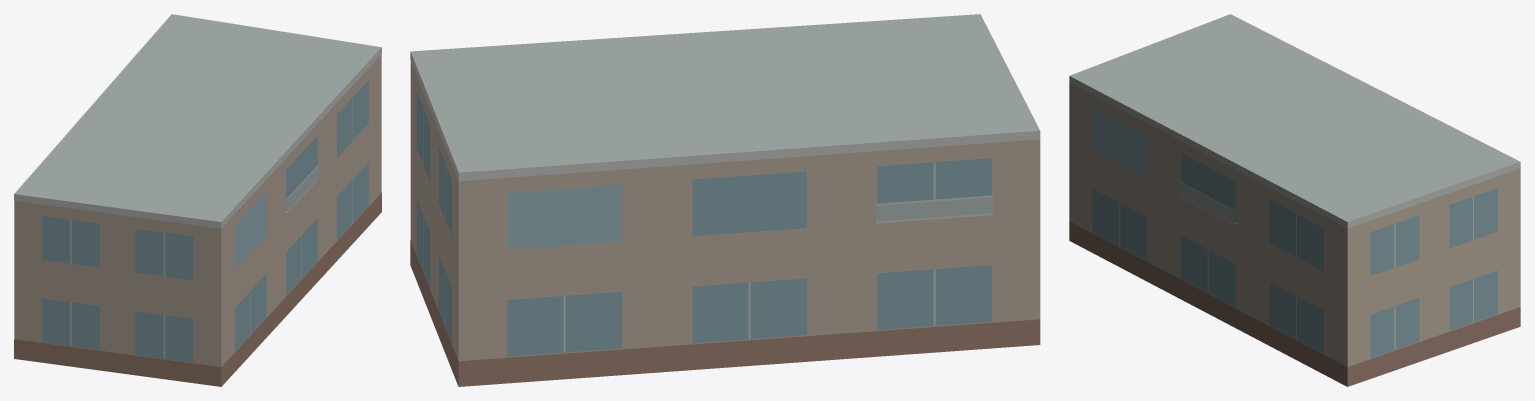
File: survey-upis-33007451.glb
The picture shows the model from 3 angles, left to right: view 1: azimuth 30°, elevation 25°; view 2: azimuth 150°, elevation 25°; view 3: azimuth 270°, elevation 25°; orthographic projection. The views are drawn at different scales.
Visible parts, largest first — view 1: survey-upis-33007451.tmp; view 2: survey-upis-33007451.tmp; view 3: survey-upis-33007451.tmp.
Boxes of the visible parts, x1,y1,x2,y2 form: survey-upis-33007451.tmp: [14, 14, 381, 386]; survey-upis-33007451.tmp: [410, 14, 1040, 386]; survey-upis-33007451.tmp: [1069, 14, 1520, 386].
Size of the model in its own units: 16.52 by 6.1 by 15.15.
